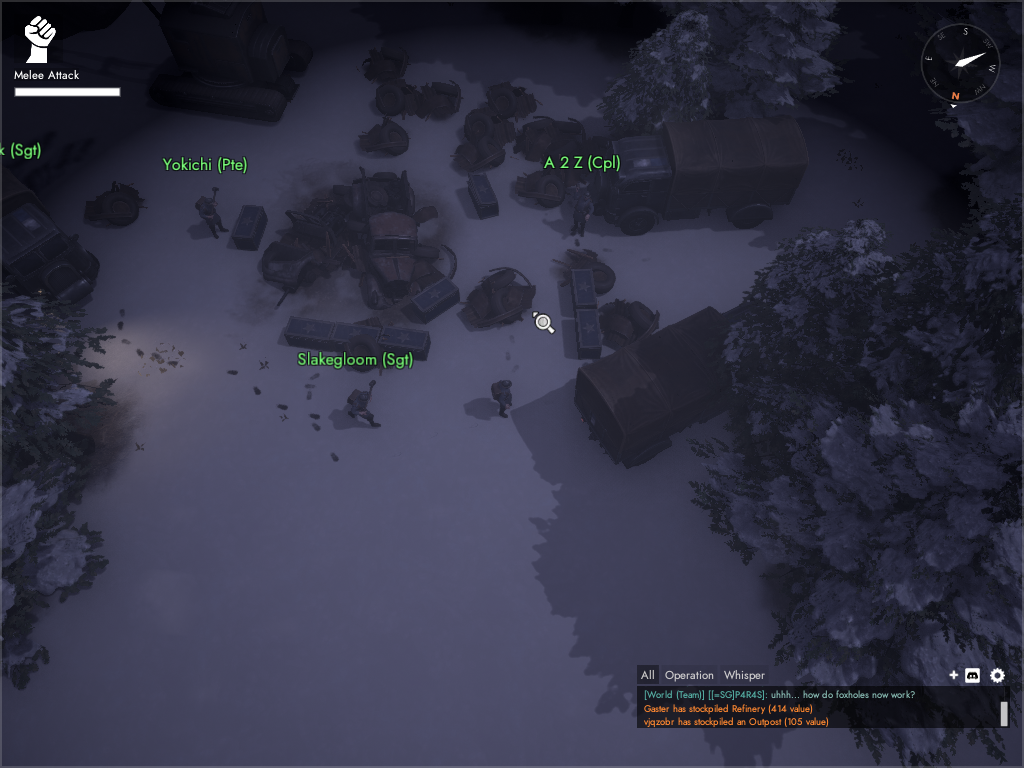crane: (144, 1, 313, 123)
player: (195, 187, 227, 241), (346, 380, 380, 429), (570, 192, 592, 237), (491, 378, 513, 419)
scrap: (460, 266, 536, 337), (79, 178, 152, 234), (595, 296, 666, 349), (353, 116, 419, 165), (512, 164, 581, 208), (520, 114, 587, 155), (482, 80, 542, 122), (457, 106, 518, 145), (412, 79, 462, 126), (560, 248, 621, 286), (358, 41, 417, 80), (447, 133, 513, 167), (374, 77, 421, 121)
scrapyard: (259, 166, 461, 313)
storage_box: (409, 275, 463, 322), (460, 166, 502, 226), (375, 322, 434, 364), (570, 305, 610, 356), (329, 320, 386, 355), (228, 203, 269, 251), (281, 314, 336, 349), (566, 264, 603, 311)
truck: (574, 304, 746, 470), (594, 118, 807, 236), (1, 168, 101, 312)
